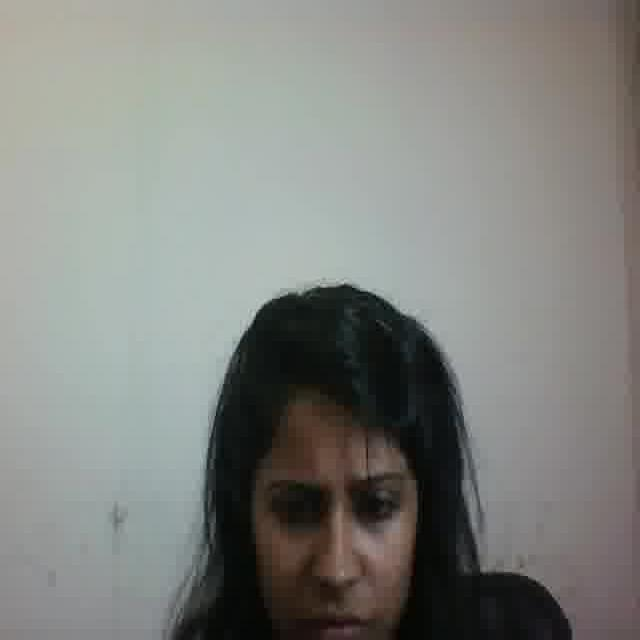Frustration: (245, 396, 414, 640)
